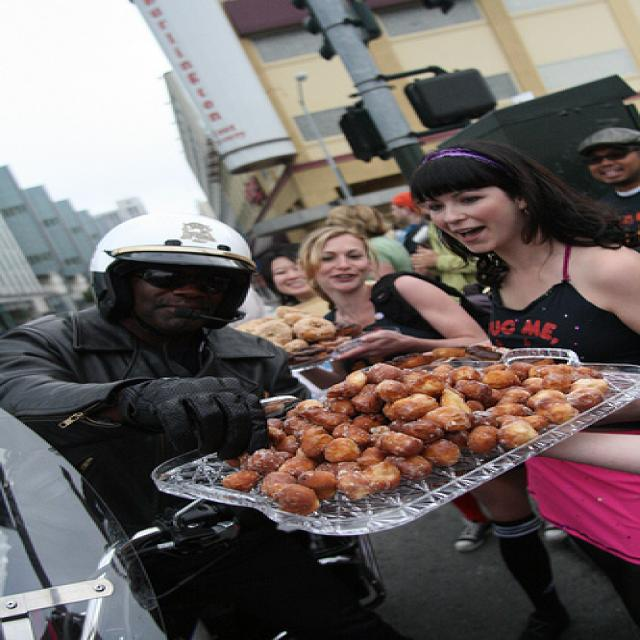motor: (0, 410, 244, 633)
